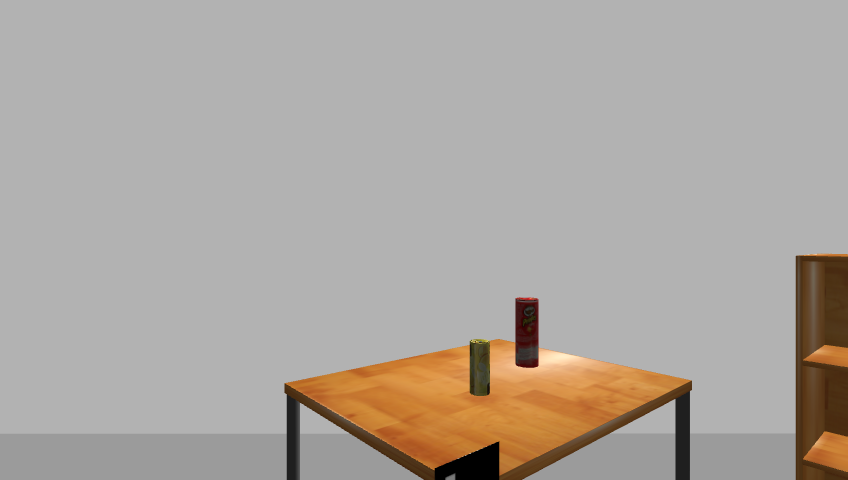aruco marker: (431, 442, 505, 480)
biscuits pack: (468, 338, 492, 398)
bookshelf: (790, 253, 848, 479)
dinner table: (278, 342, 701, 480)
pringles can: (512, 296, 541, 370)
